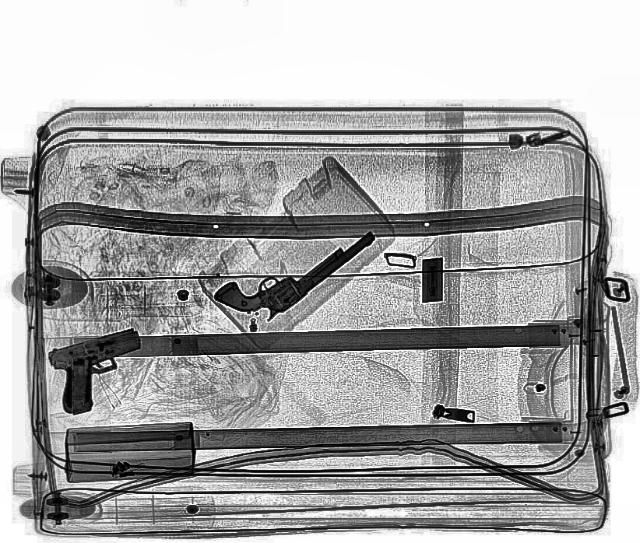Gun: (210, 211, 394, 333), (41, 326, 165, 414)
